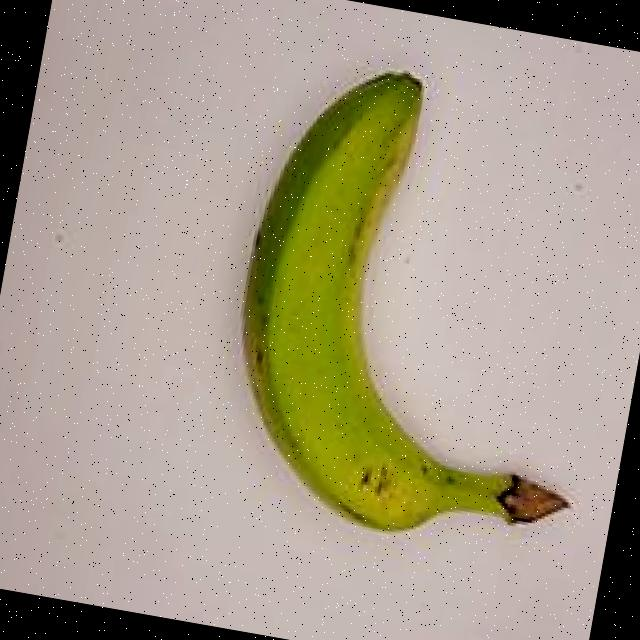Unripe: (159, 19, 640, 592)
